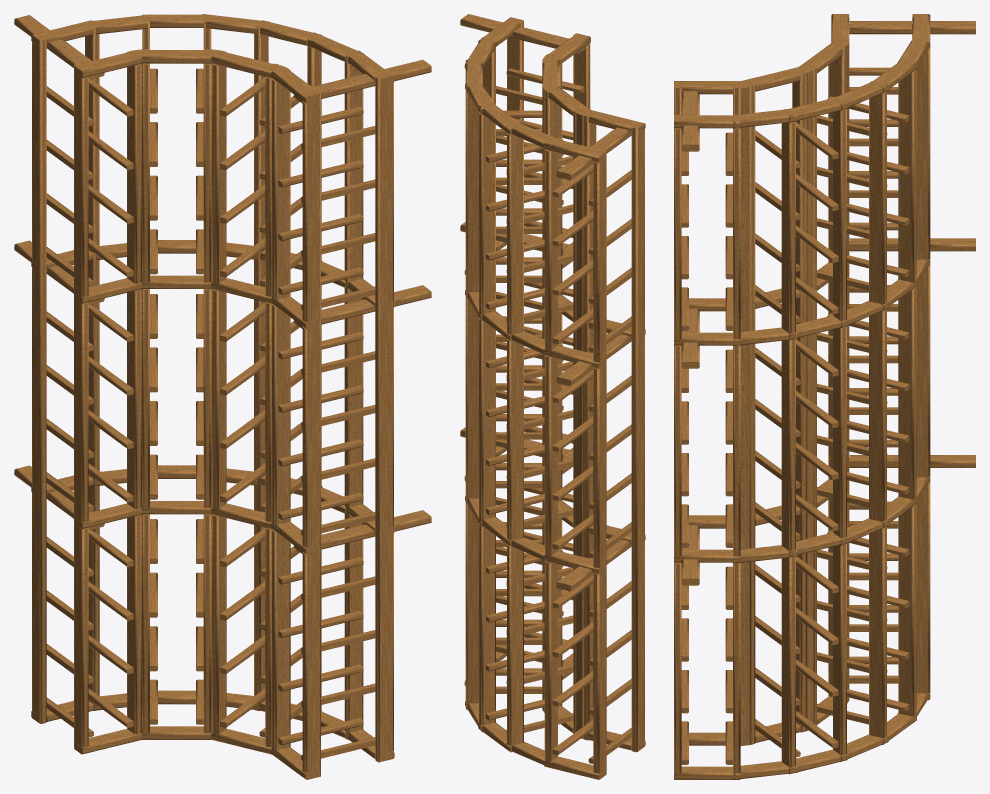
File: VCKB0040.glb
The picture shows the model from 3 angles, left to right: view 1: azimuth 30°, elevation 25°; view 2: azimuth 150°, elevation 25°; view 3: azimuth 270°, elevation 25°; orthographic projection. The views are drawn at different scales.
Parts seen in each view (by area): view 1: G-Difference.023; view 2: G-Difference.023; view 3: G-Difference.023.
Part boxes in pixels (<box>): G-Difference.023: <box>14,14,431,779</box>; G-Difference.023: <box>460,14,645,779</box>; G-Difference.023: <box>674,14,975,779</box>.
Bounding box in the file's own units: 0.5036 × 1.21 × 0.5036.
2 materials, 2 textured.
